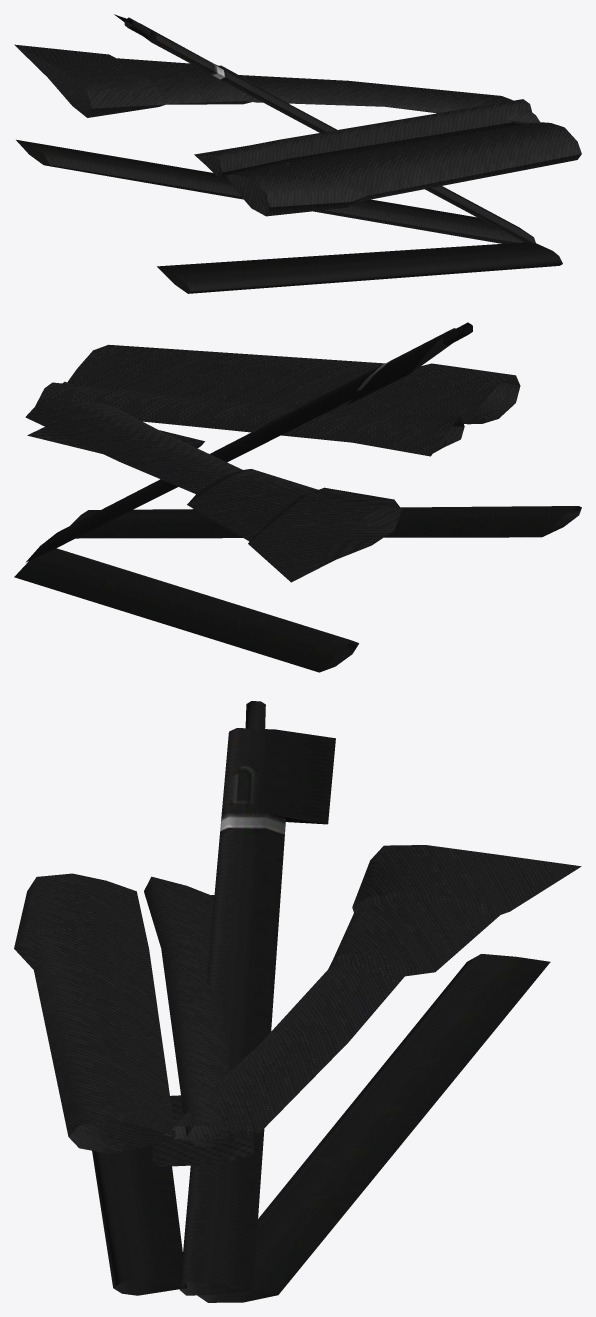
File: FerrariF2007_SuspFL.glb
3 renders of one model, top to bottom at view 1: azimuth 30°, elevation 25°; view 2: azimuth 150°, elevation 25°; view 3: azimuth 270°, elevation 25°, orthographic. The views are drawn at different scales.
Parts seen in each view (by area): view 1: fer_suspa_fl; view 2: fer_suspa_fl; view 3: fer_suspa_fl.
Boxes of the visible parts, x1,y1,x2,y2 form: fer_suspa_fl: (14, 14, 581, 293); fer_suspa_fl: (14, 322, 581, 672); fer_suspa_fl: (14, 701, 581, 1302).
Bounding box in the file's own units: 0.4482 × 0.3321 × 0.4537.
1 material, 1 textured.
